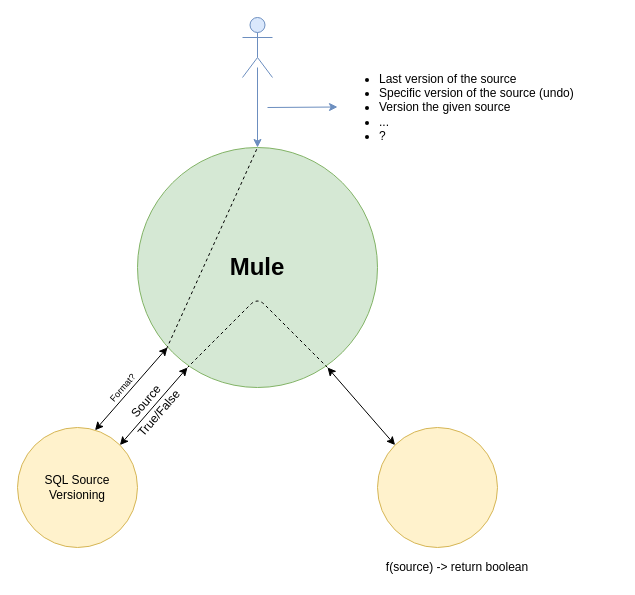
This 635x595 diagram has some shape labels left out. The centre of each missing label's shape, as x and y in pixels:
"SQL Constraint Checker" goes at point (437, 487).
"User" goes at point (257, 47).
